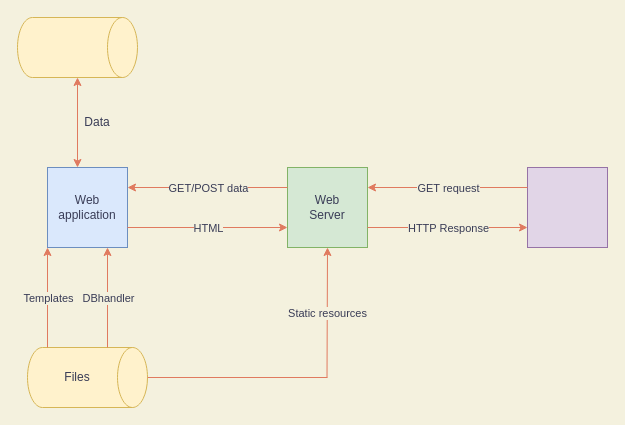
Some shapes in this 625 by 425 pixel diagram are drawn without their labels. The centre of each missing label's shape, as x and y in pixels:
"Browser" goes at point 567,207.
"Database" goes at point 77,47.
